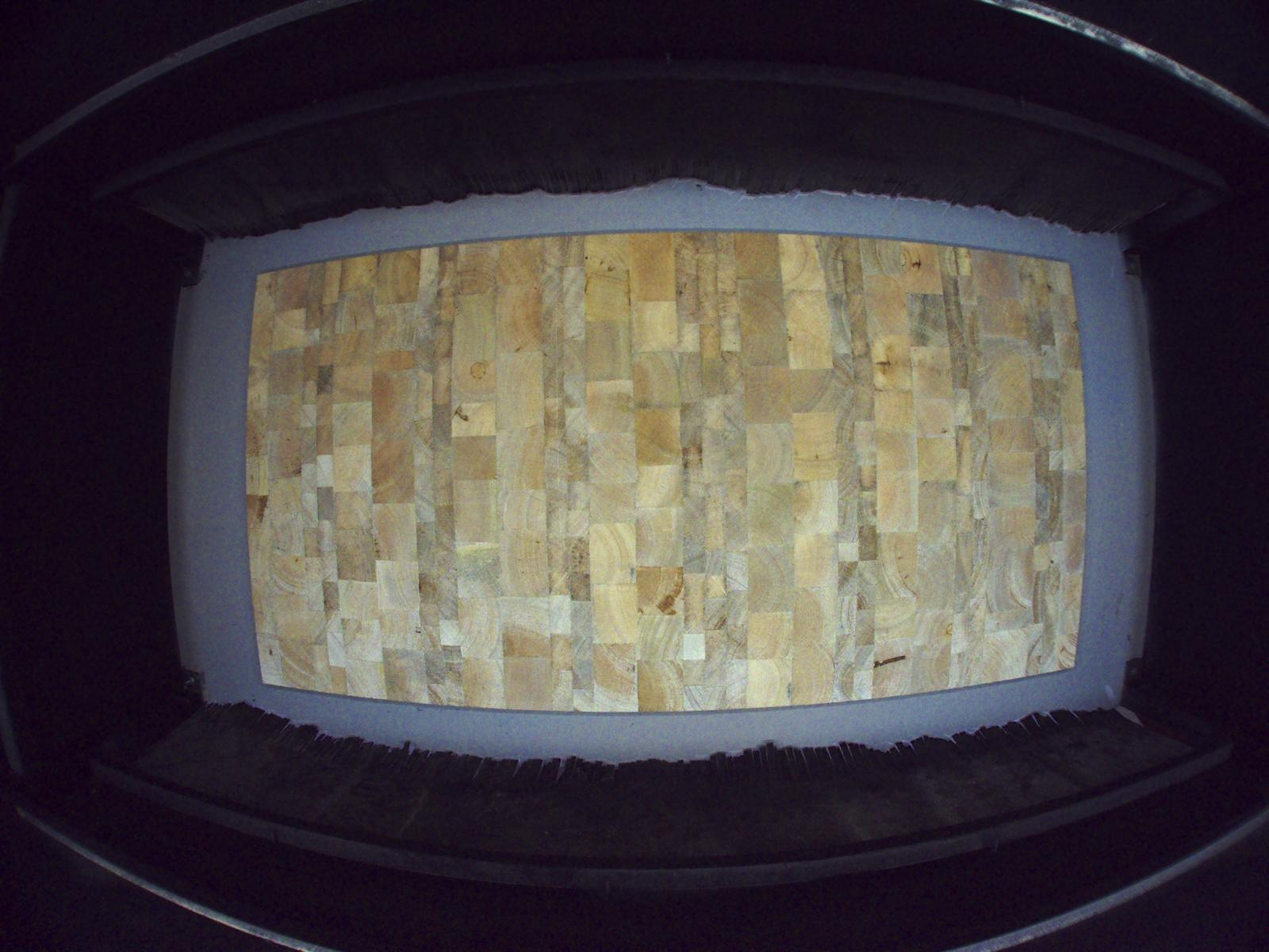sheck_ecuatoriano: (912, 244, 922, 276)
